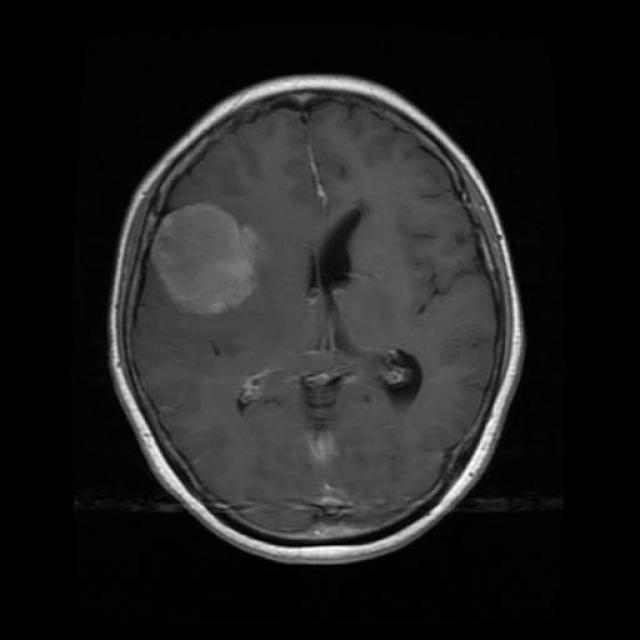meningioma: (151, 204, 259, 316)
